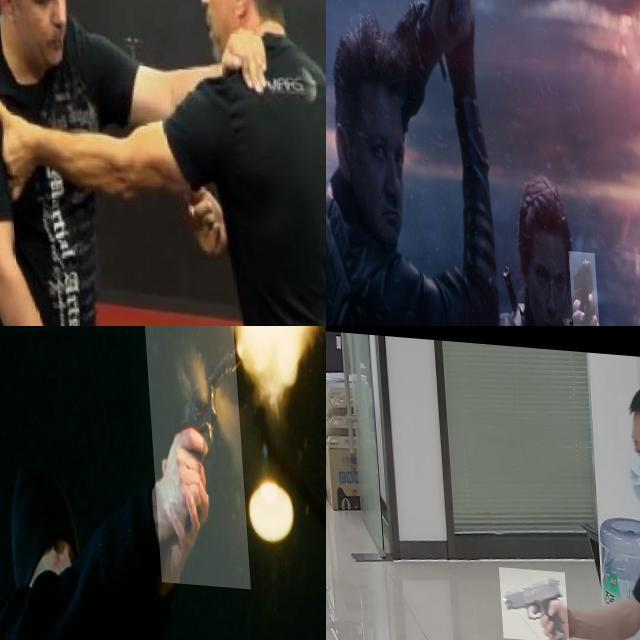gun-knife-thesis - v11 Yolov5 augmented: (142, 326, 245, 581), (496, 560, 566, 636), (563, 243, 596, 326)
